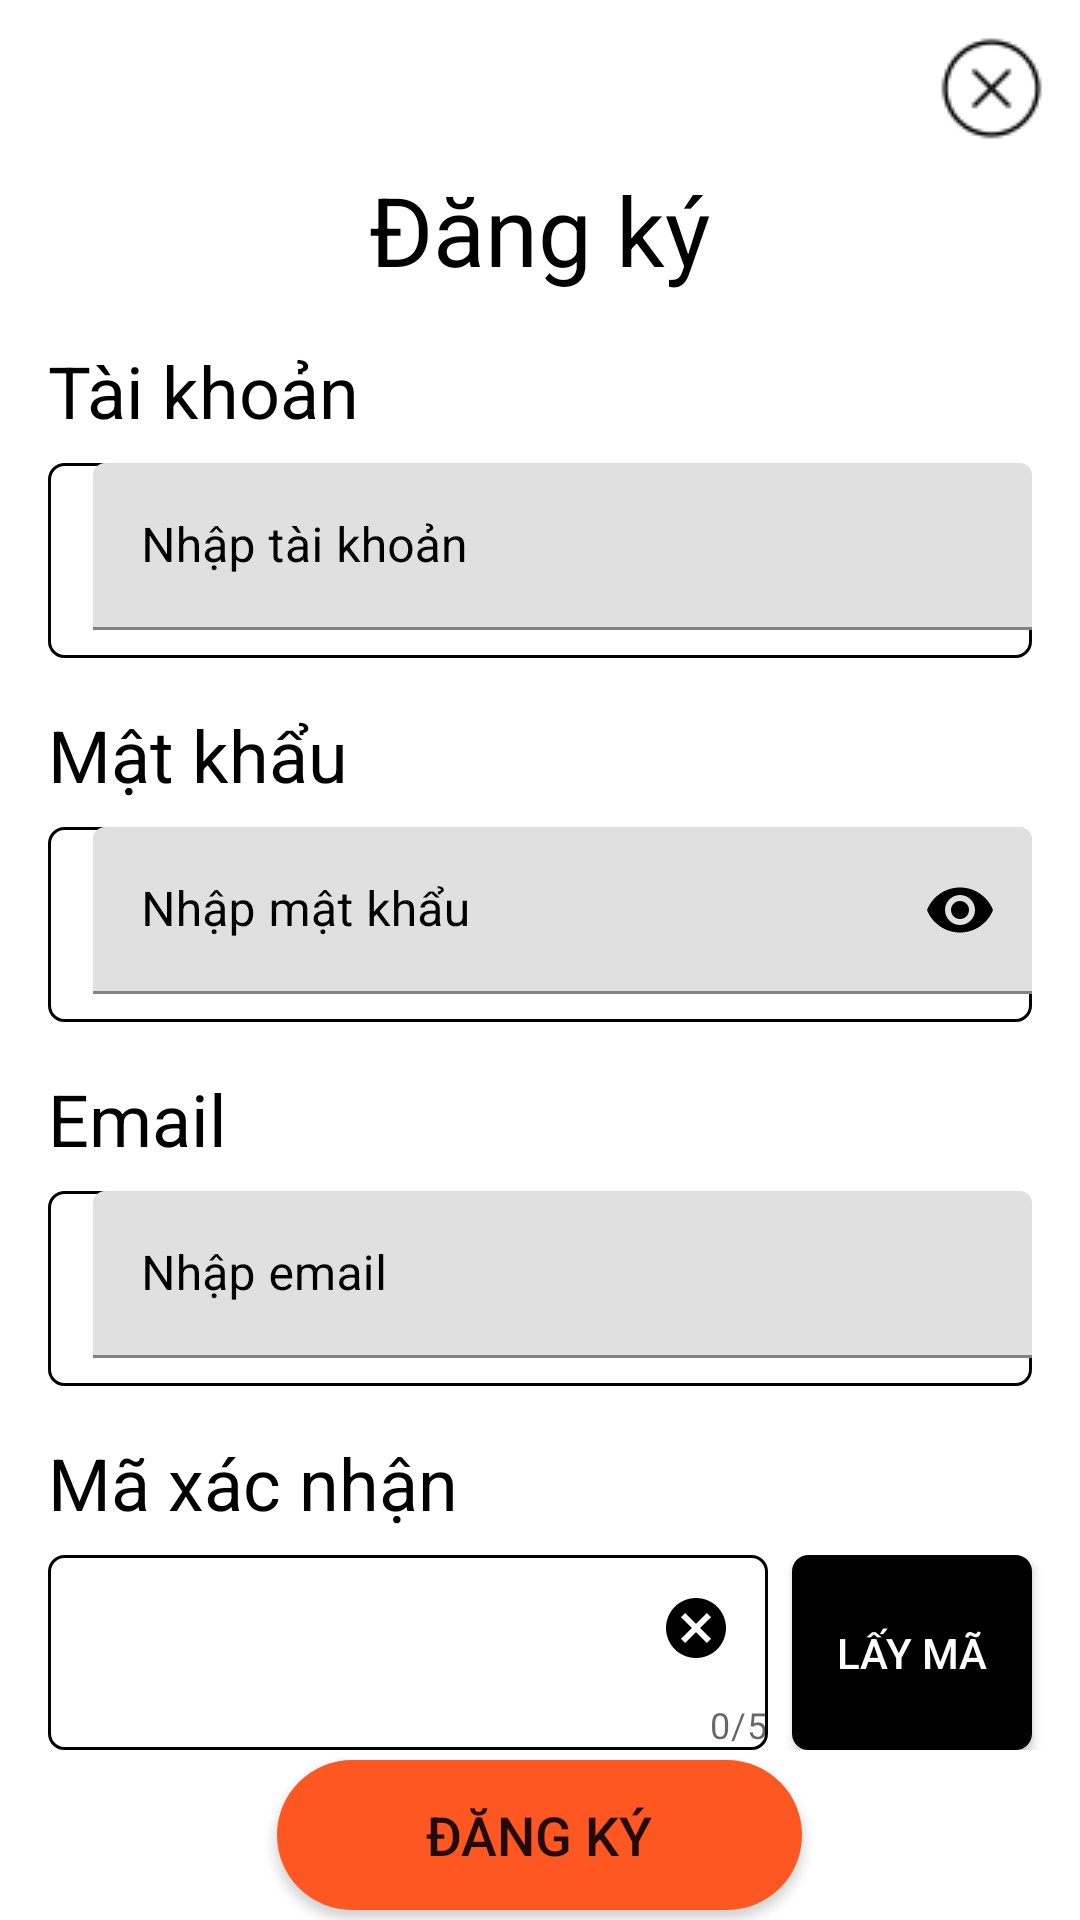

Screen size 1080px x 1920px. Icon name, then its center in pixels as point (x, y):
mutiply: point (991, 88)
